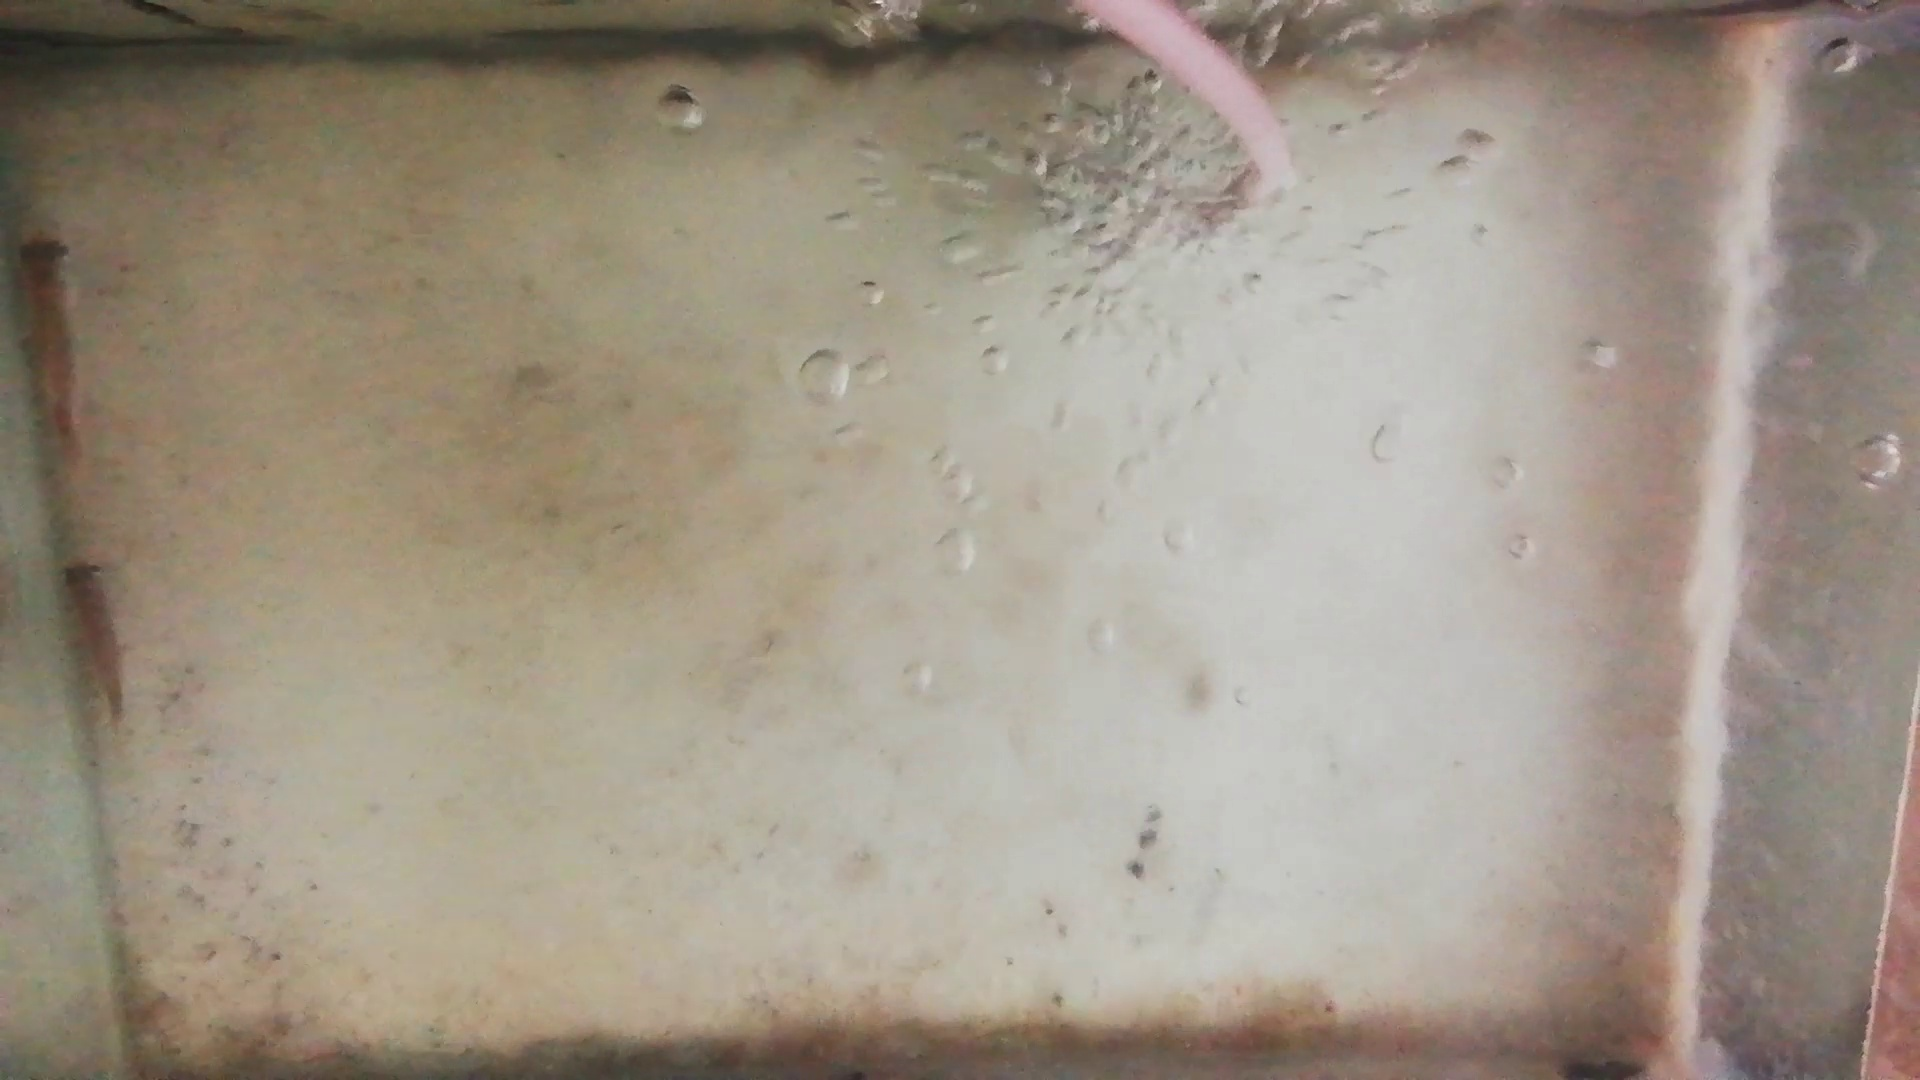fish: (25, 237, 80, 458), (57, 562, 127, 717)
